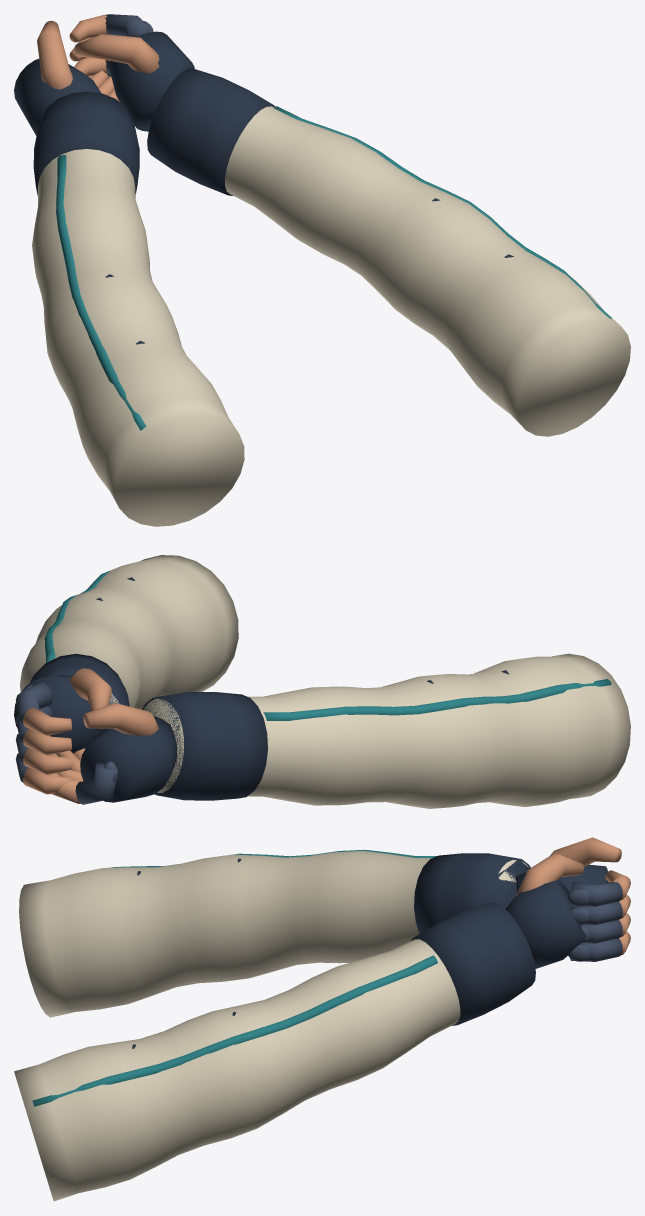
Rendered from anime-hands.glb.
The picture shows the model from 3 angles, top to bottom: view 1: azimuth 30°, elevation 25°; view 2: azimuth 150°, elevation 25°; view 3: azimuth 270°, elevation 25°; orthographic projection. The views are drawn at different scales.
Parts seen in each view (by area): view 1: rightHand_Cream tailored sleeve, leftHand_Cream tailored sleeve, rightHand_Ink blue glove, leftHand_Ink blue glove, rightHand_Warm fingers, leftHand_Sleeve turquoise stripe, leftHand_Warm fingers, rightHand_Sleeve turquoise stripe, rightHand_Glove raised panels; view 2: leftHand_Cream tailored sleeve, rightHand_Cream tailored sleeve, leftHand_Ink blue glove, rightHand_Warm fingers, rightHand_Ink blue glove, leftHand_Sleeve turquoise stripe, leftHand_Warm fingers, rightHand_Glove raised panels, leftHand_Glove raised panels, rightHand_Sleeve turquoise stripe; view 3: rightHand_Cream tailored sleeve, leftHand_Cream tailored sleeve, rightHand_Ink blue glove, leftHand_Ink blue glove, rightHand_Glove raised panels, rightHand_Sleeve turquoise stripe, rightHand_Warm fingers, leftHand_Warm fingers.
Part boxes in pixels (x1=…): rightHand_Cream tailored sleeve: x1=225, y1=106, x2=630, y2=436; leftHand_Cream tailored sleeve: x1=32, y1=149, x2=244, y2=526; rightHand_Ink blue glove: x1=109, y1=31, x2=513, y2=257; leftHand_Ink blue glove: x1=14, y1=58, x2=144, y2=344; rightHand_Warm fingers: x1=69, y1=14, x2=159, y2=77; leftHand_Sleeve turquoise stripe: x1=56, y1=154, x2=146, y2=430; leftHand_Warm fingers: x1=37, y1=20, x2=119, y2=101; rightHand_Sleeve turquoise stripe: x1=274, y1=106, x2=611, y2=318; rightHand_Glove raised panels: x1=105, y1=14, x2=153, y2=77; leftHand_Cream tailored sleeve: x1=143, y1=653, x2=630, y2=808; rightHand_Cream tailored sleeve: x1=20, y1=555, x2=238, y2=709; leftHand_Ink blue glove: x1=80, y1=670, x2=509, y2=802; rightHand_Warm fingers: x1=23, y1=668, x2=111, y2=794; rightHand_Ink blue glove: x1=14, y1=577, x2=134, y2=753; leftHand_Sleeve turquoise stripe: x1=263, y1=679, x2=611, y2=720; leftHand_Warm fingers: x1=49, y1=703, x2=158, y2=803; rightHand_Glove raised panels: x1=15, y1=682, x2=52, y2=782; leftHand_Glove raised panels: x1=75, y1=761, x2=117, y2=804; rightHand_Sleeve turquoise stripe: x1=44, y1=570, x2=110, y2=662; rightHand_Cream tailored sleeve: x1=14, y1=939, x2=460, y2=1201; leftHand_Cream tailored sleeve: x1=19, y1=851, x2=528, y2=1017; rightHand_Ink blue glove: x1=132, y1=880, x2=586, y2=1048; leftHand_Ink blue glove: x1=137, y1=853, x2=608, y2=933; rightHand_Glove raised panels: x1=567, y1=881, x2=622, y2=961; rightHand_Sleeve turquoise stripe: x1=32, y1=955, x2=437, y2=1106; rightHand_Warm fingers: x1=516, y1=853, x2=630, y2=955; leftHand_Warm fingers: x1=550, y1=837, x2=621, y2=866.
Size of the model in its own units: 0.5645 by 0.2688 by 0.6085.
